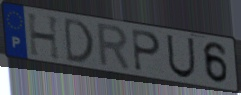6: (201, 40, 229, 85)
D: (63, 16, 95, 64)
H: (26, 12, 63, 62)
P: (130, 28, 163, 75)
R: (96, 21, 133, 73)
U: (165, 33, 197, 80)
